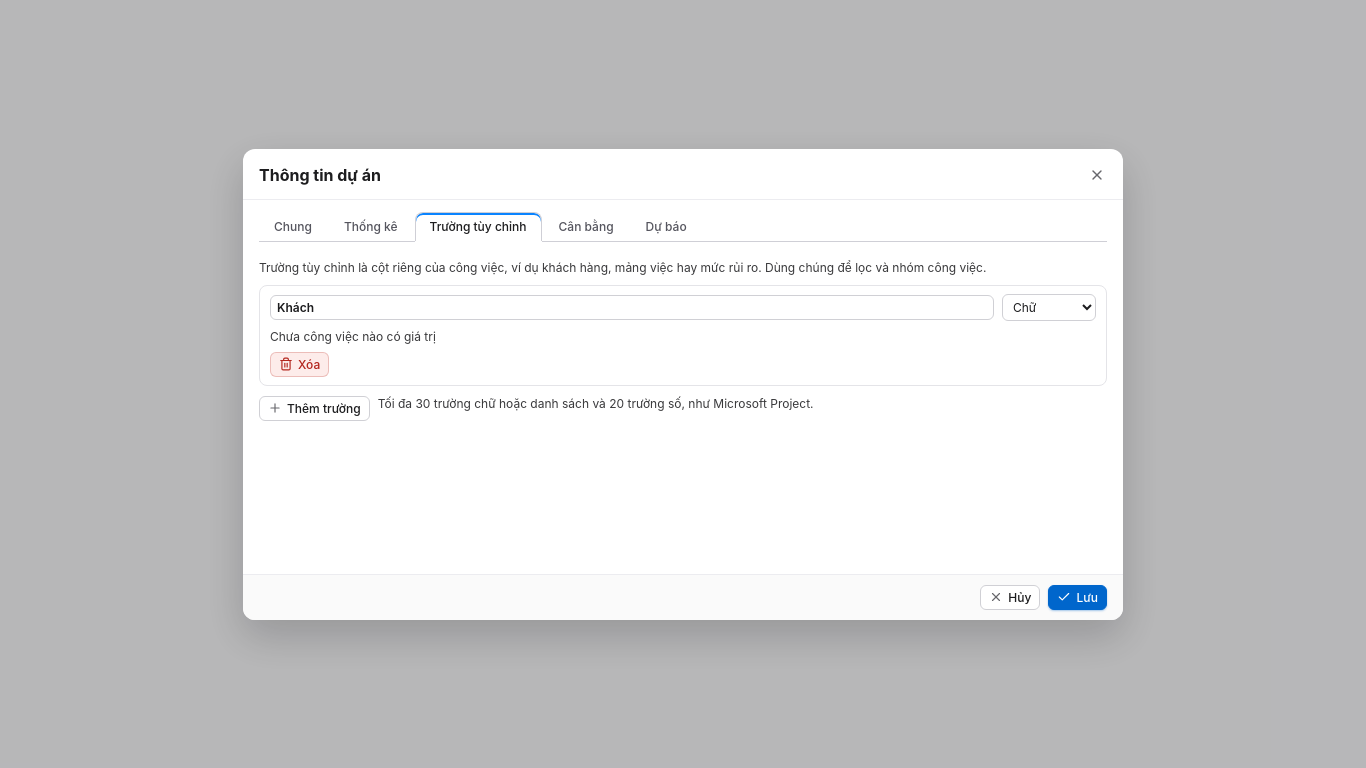
Scenario: Custom fields tab › puts a refused name back
Replace the text in the field named "Tên trường" with "Trùng". click: (632, 307)
box: [270,294,994,320]
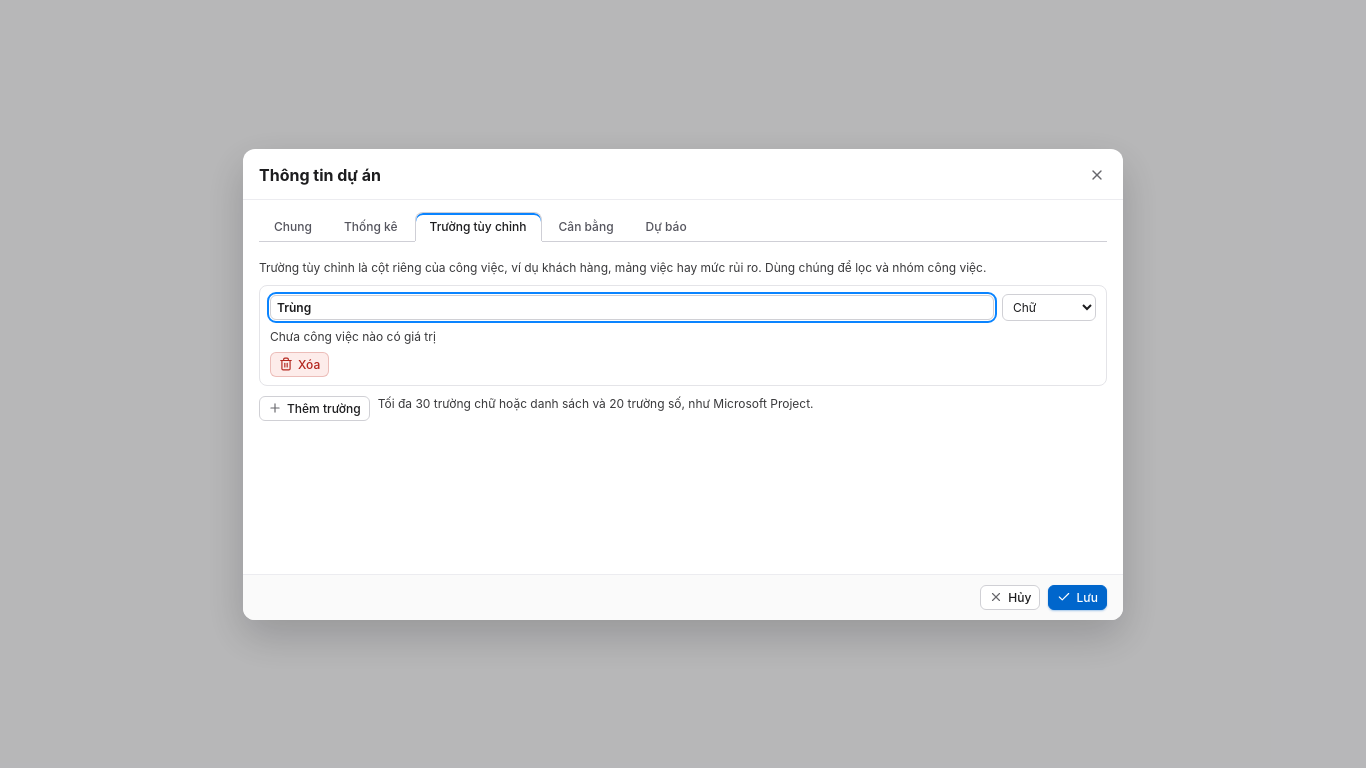
Press Tab
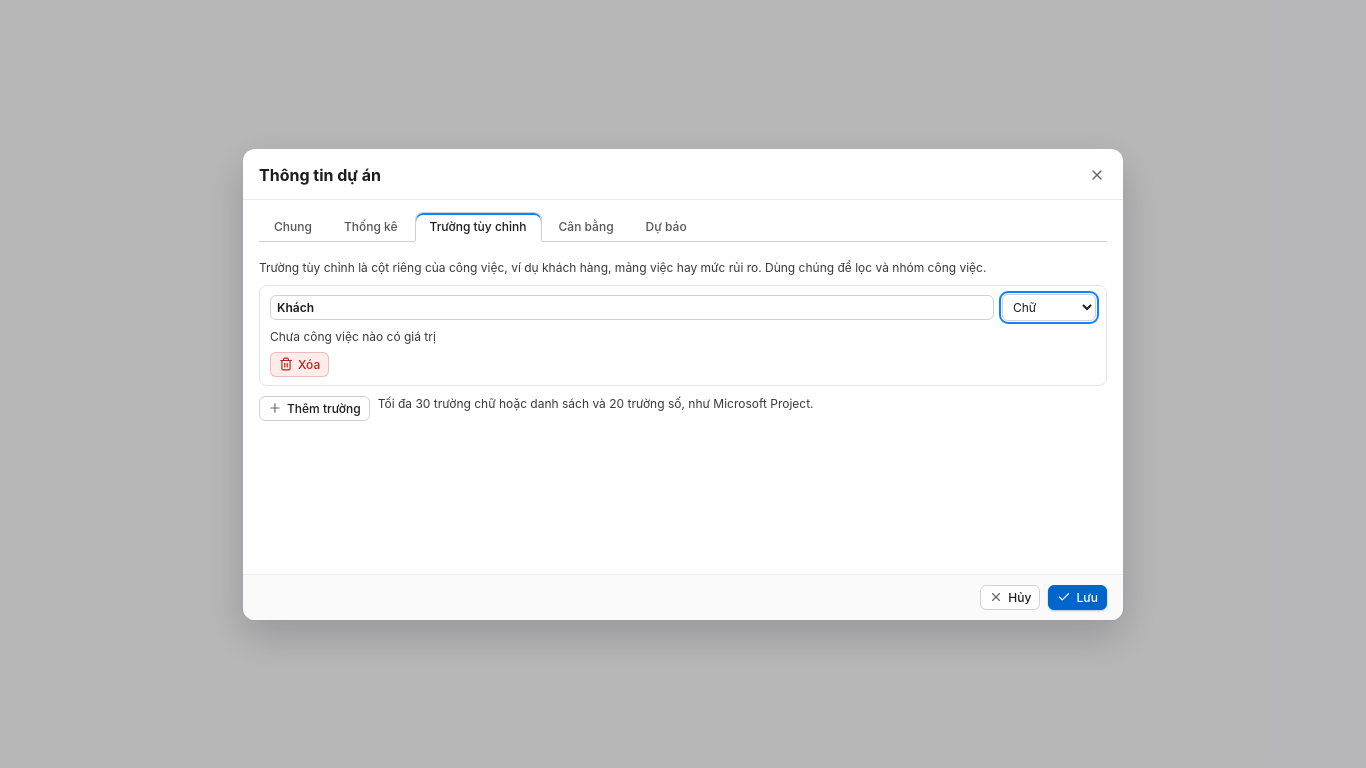
Result: the field named "Tên trường" holds "Khách" at [270,294,994,320]
